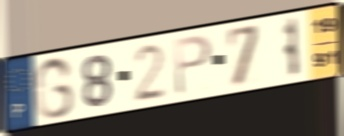1: (281, 14, 302, 81)
2: (131, 42, 168, 105)
7: (225, 23, 263, 90)
8: (80, 53, 115, 109)
G: (33, 54, 77, 121)
P: (172, 32, 215, 99)
